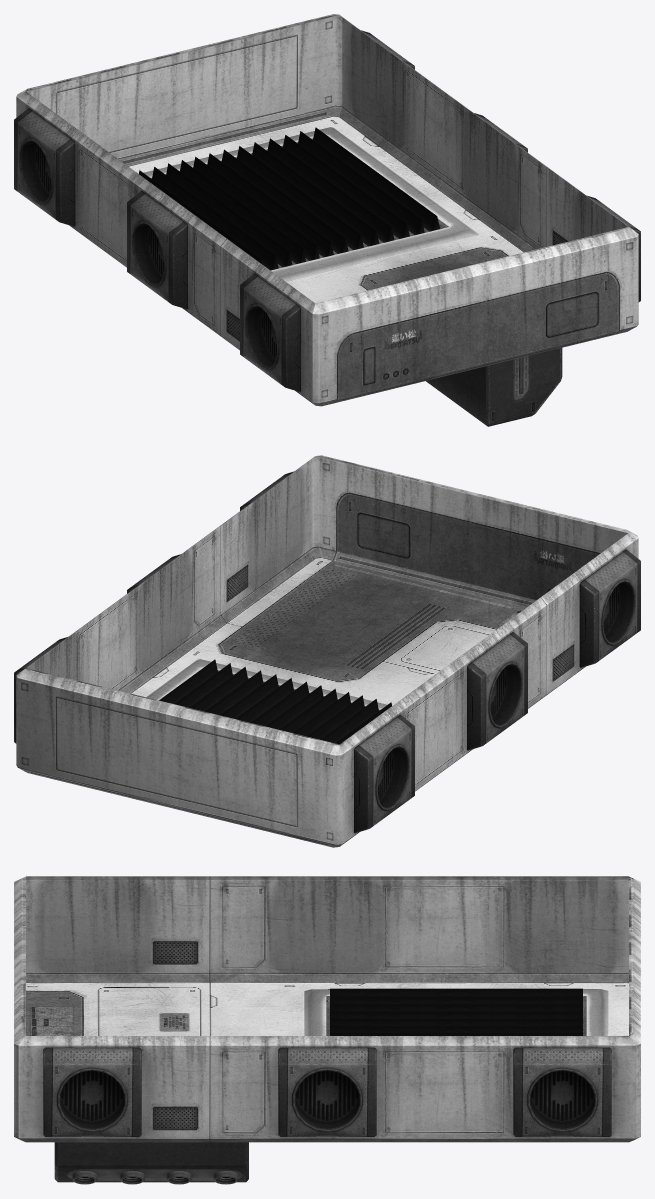
Rendered from 04_02_workshop_roof_ventilation.dae.
3 renders of one model, top to bottom at view 1: azimuth 30°, elevation 25°; view 2: azimuth 150°, elevation 25°; view 3: azimuth 270°, elevation 25°, orthographic. The views are drawn at different scales.
Visible parts, largest first — view 1: polySurface81; view 2: polySurface81; view 3: polySurface81.
Boxes of the visible parts, box(x1,y1,x2,y2) form: polySurface81: box(14, 14, 640, 426); polySurface81: box(14, 455, 640, 847); polySurface81: box(14, 876, 640, 1184).
Bounding box in the file's own units: 2.75 × 1.32 × 4.
